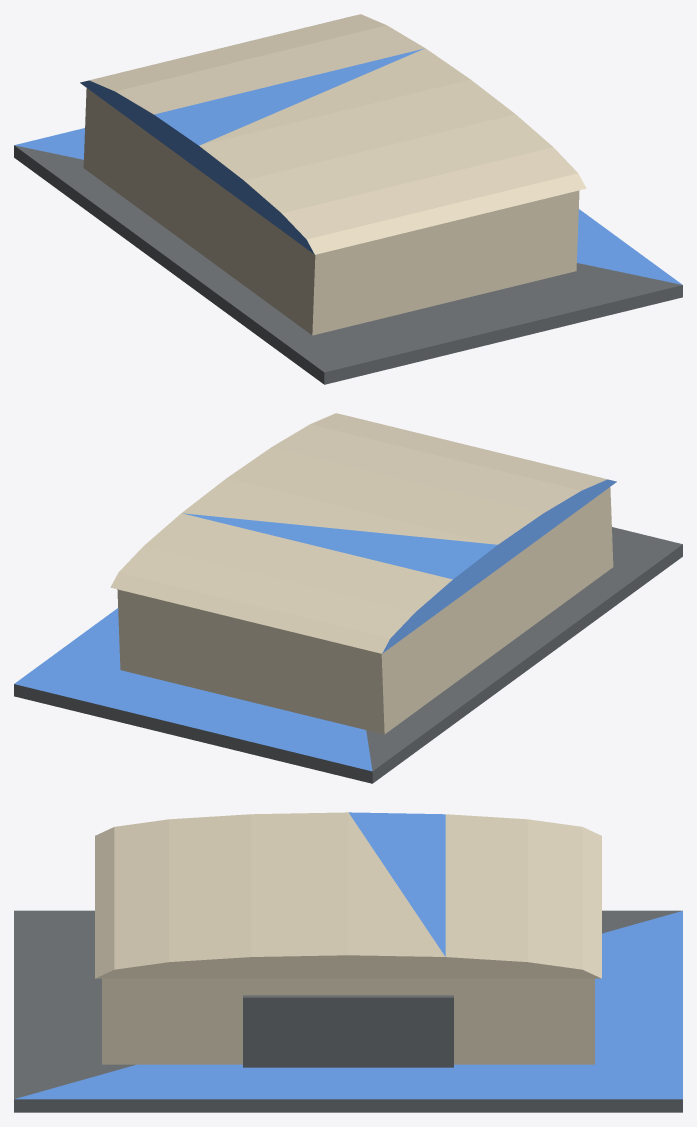
The model's file is meridian_barracks_heavily_damaged.glb.
The picture shows the model from 3 angles, top to bottom: view 1: azimuth 30°, elevation 25°; view 2: azimuth 150°, elevation 25°; view 3: azimuth 270°, elevation 25°; orthographic projection. The views are drawn at different scales.
Parts seen in each view (by area): view 1: hull; view 2: hull; view 3: hull, door.
Boxes of the visible parts, x1,y1,x2,y2 form: hull: [14, 14, 682, 384]; hull: [14, 413, 682, 783]; hull: [14, 812, 682, 1112]; door: [243, 995, 453, 1067].
Size of the model in its own units: 7.6 by 2.39 by 11.4.
